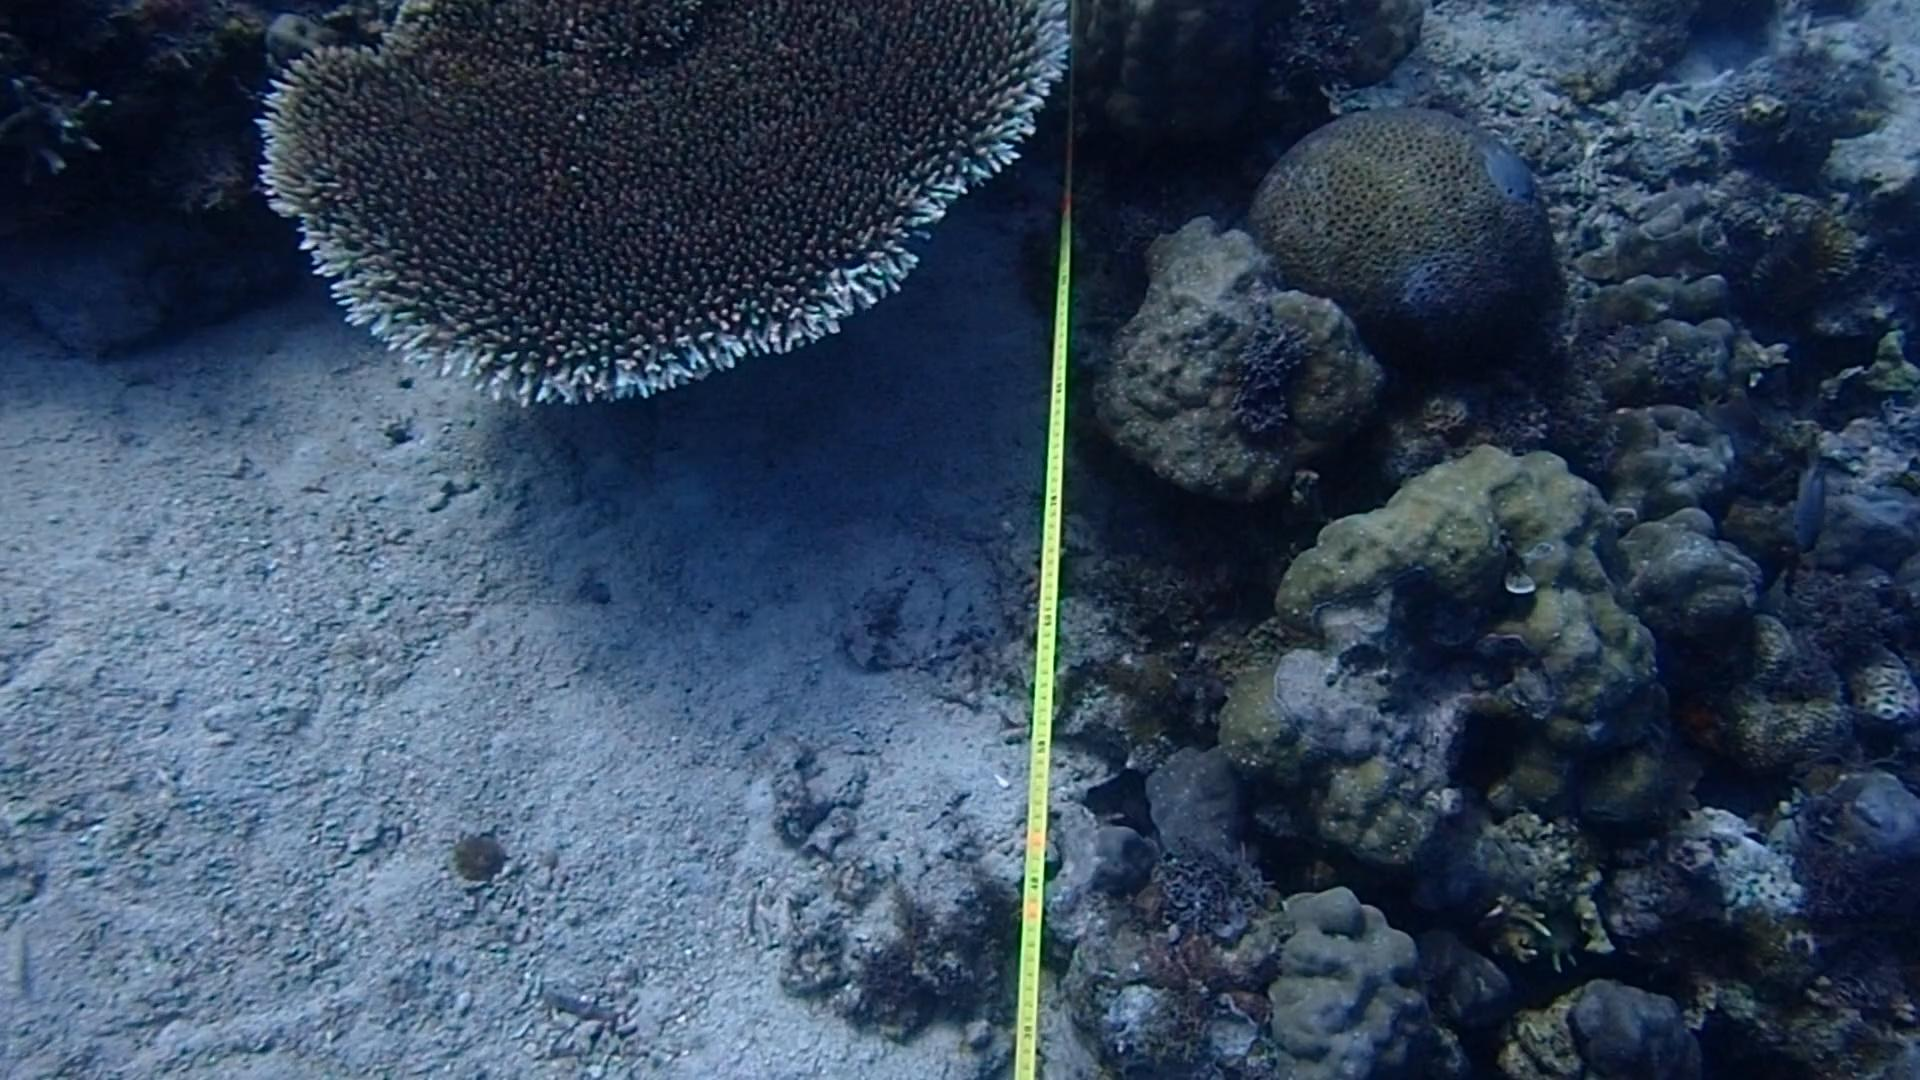Light Fish: (1775, 447, 1845, 555), (1465, 117, 1539, 212)
